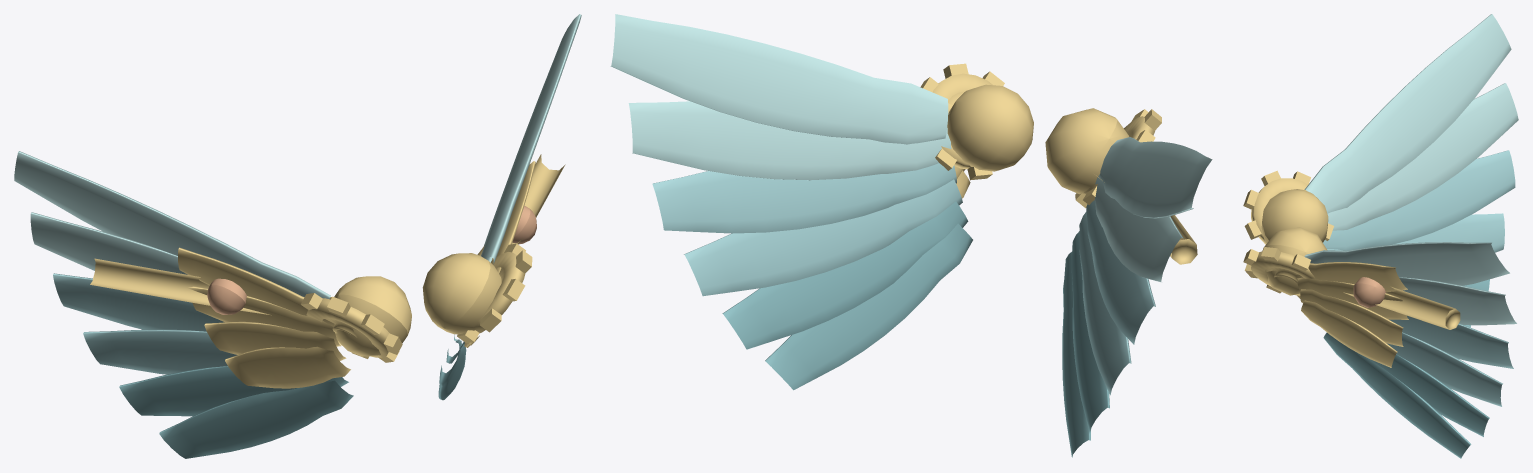
File: tray_part_wings.glb
3 renders of one model, left to right at view 1: azimuth 30°, elevation 25°; view 2: azimuth 150°, elevation 25°; view 3: azimuth 270°, elevation 25°, orthographic. The views are drawn at different scales.
Visible parts, largest first — view 1: Tray_Wing_L, Tray_Wing_R; view 2: Tray_Wing_R, Tray_Wing_L; view 3: Tray_Wing_L, Tray_Wing_R.
Part boxes in pixels (x1,y1,x2,y2): Tray_Wing_L: (14,151,411,458); Tray_Wing_R: (422,14,581,400); Tray_Wing_R: (610,14,1033,390); Tray_Wing_L: (1045,108,1212,457); Tray_Wing_L: (1243,14,1518,327); Tray_Wing_R: (1243,227,1516,458).
Bounding box in the file's own units: 0.4634 × 0.2597 × 0.2343.
